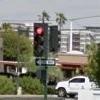Traffic light: (23, 15, 65, 63)
